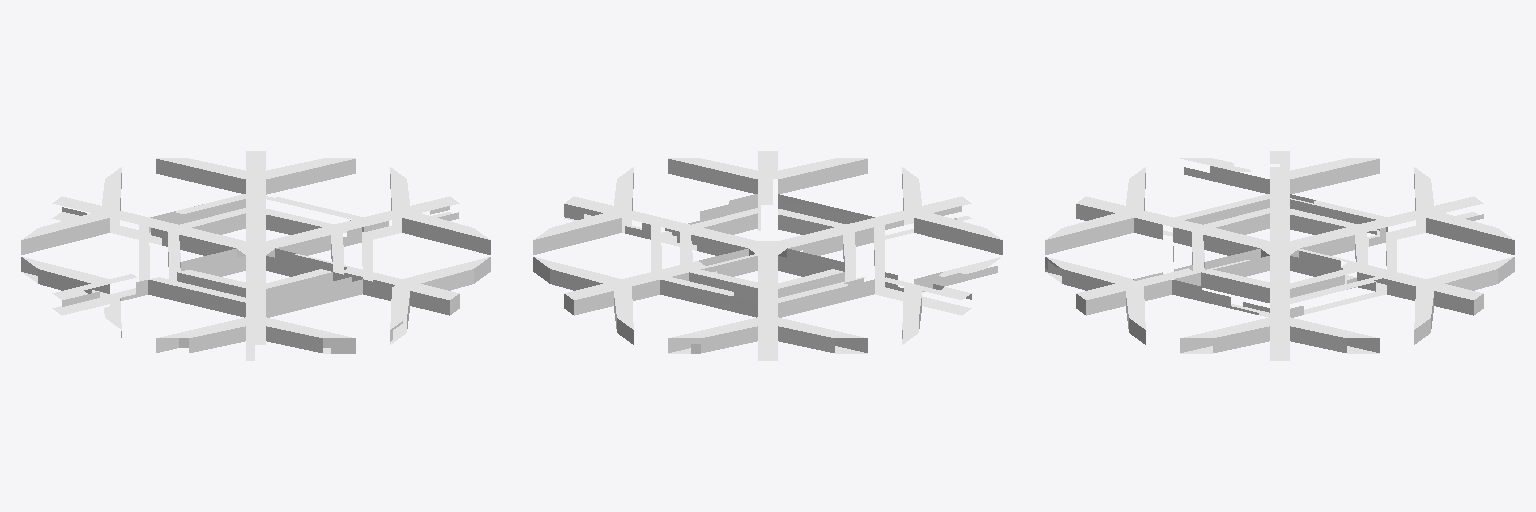
3 views of the same model, side by side, from view 1: azimuth 30°, elevation 25°; view 2: azimuth 150°, elevation 25°; view 3: azimuth 270°, elevation 25° (orthographic).
Parts seen in each view (by area): view 1: 円柱; view 2: 円柱; view 3: 円柱.
Part boxes in pixels (bbox=[...]): 円柱: bbox=[21, 151, 490, 360]; 円柱: bbox=[533, 151, 1002, 360]; 円柱: bbox=[1045, 151, 1514, 360].
Bounding box in the file's own units: 13.73 × 0.5 × 14.03.
1 materials, 1 textured.